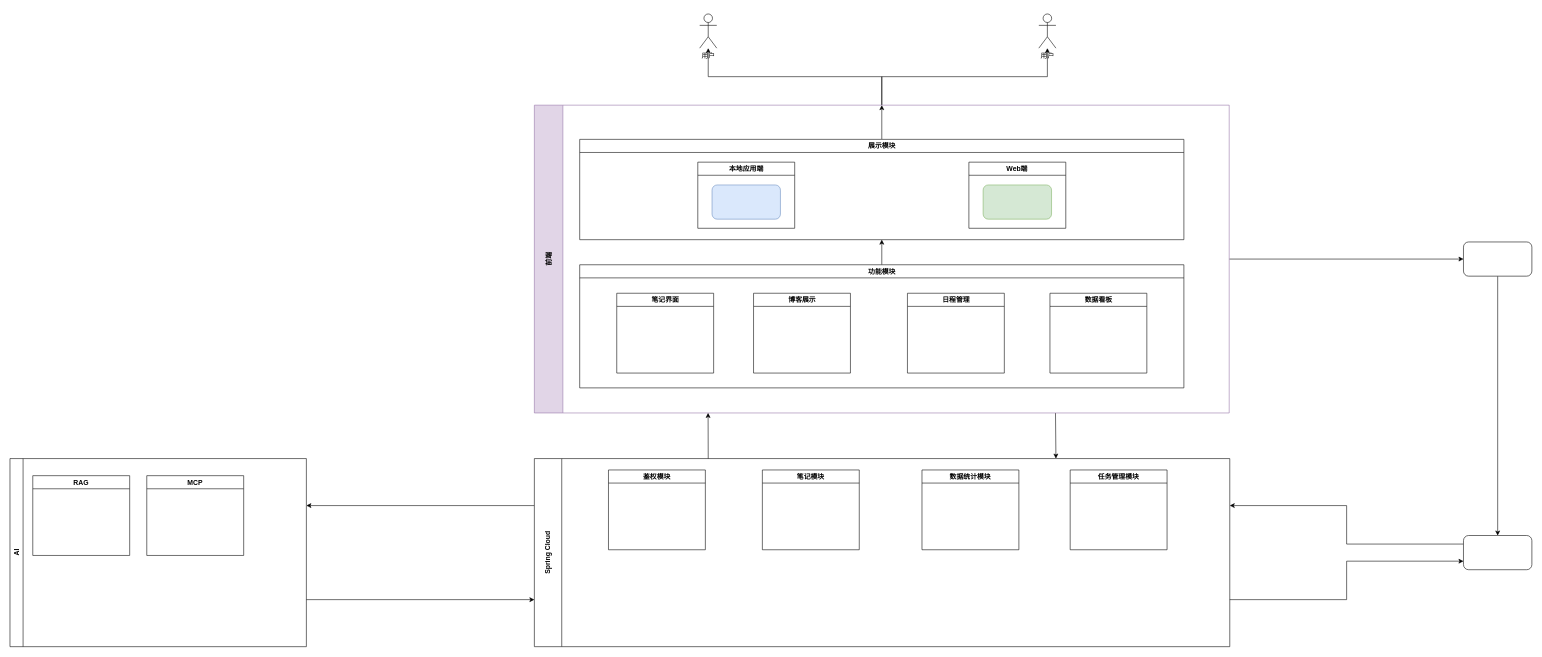
Image size: 1542x657. Some labels were removed from this diagram. Each missing label, with the centre of its shape:
CouchDB数据库: the point at 1497,552
Flutter: the point at 745,201
PouchDB数据库: the point at 1497,258
Vue3: the point at 1017,201
